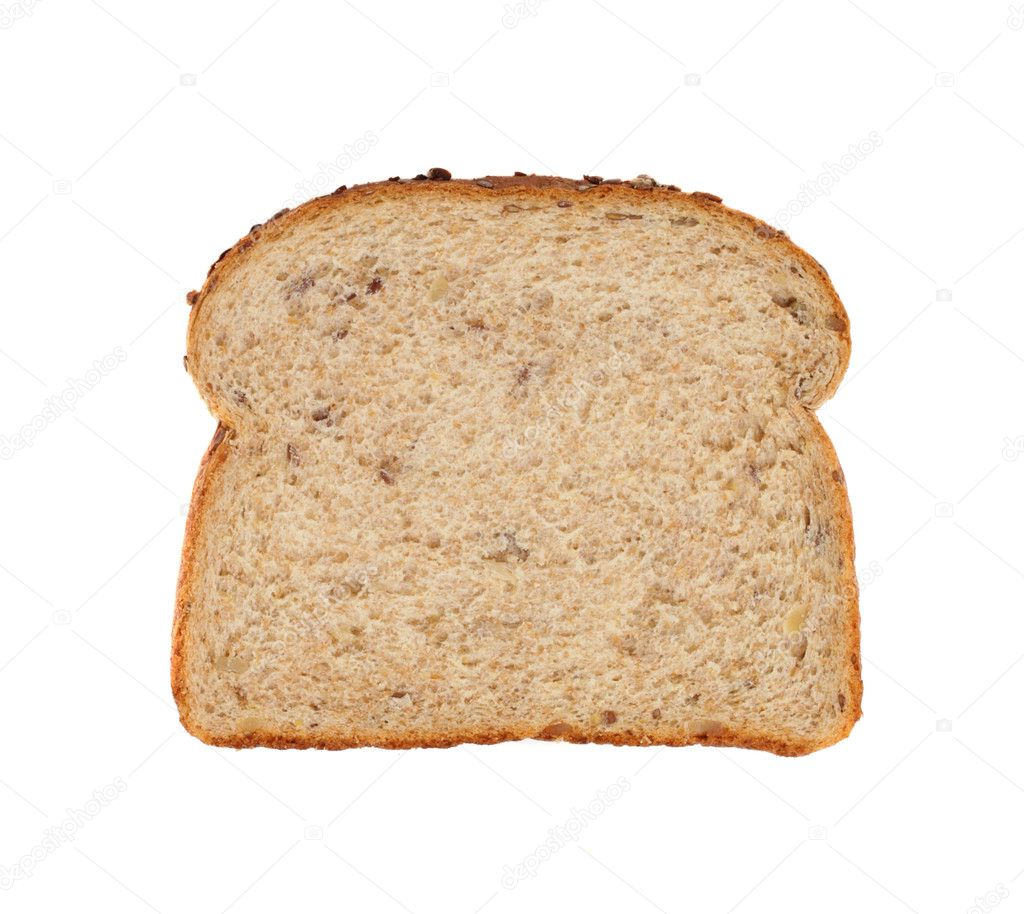slice of bread: (186, 198, 852, 752)
